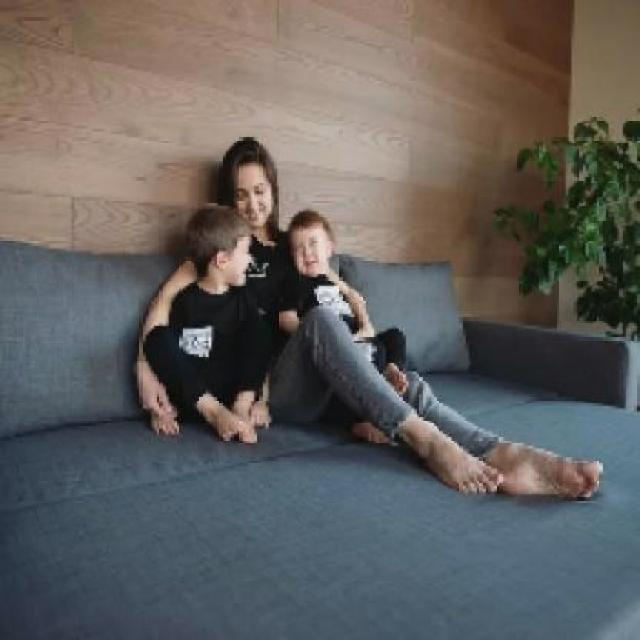child: (141, 198, 273, 448), (278, 207, 413, 393)
